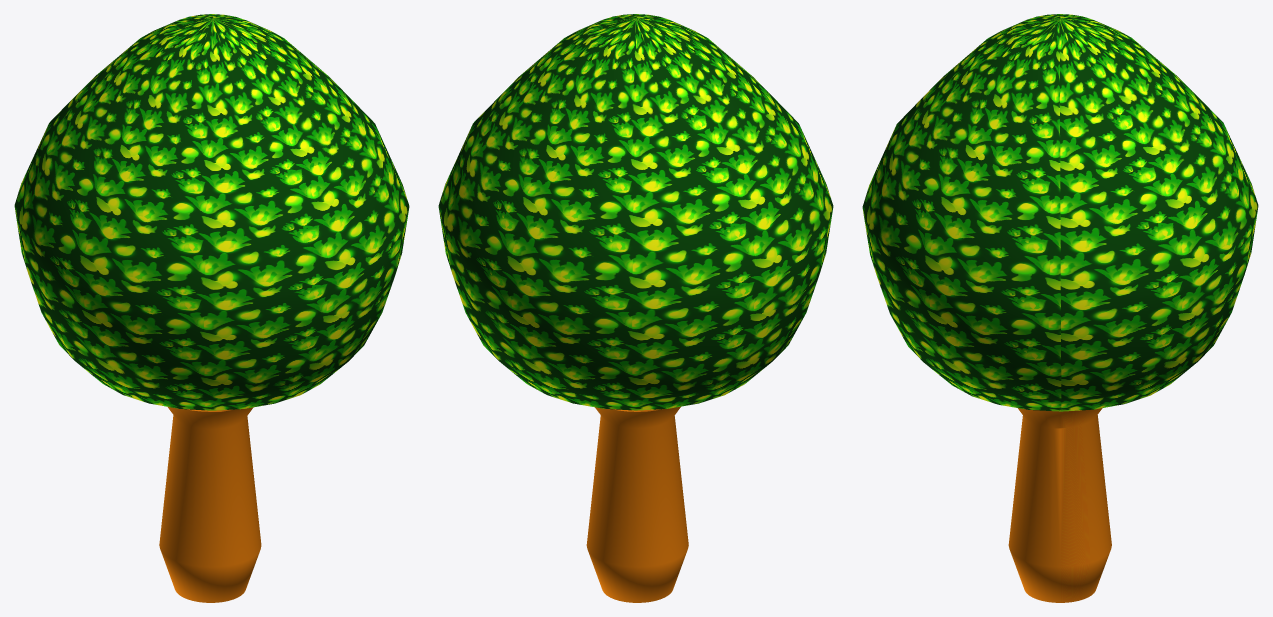
The model's file is TreePrefab5.fbx.
The picture shows the model from 3 angles, left to right: view 1: azimuth 30°, elevation 25°; view 2: azimuth 150°, elevation 25°; view 3: azimuth 270°, elevation 25°; orthographic projection.
Parts seen in each view (by area): view 1: Sphere, Cylinder; view 2: Sphere, Cylinder; view 3: Sphere, Cylinder.
Boxes of the visible parts, x1=… form: Sphere: x1=14, y1=14, x2=409, y2=410; Cylinder: x1=159, y1=407, x2=261, y2=602; Sphere: x1=438, y1=14, x2=833, y2=410; Cylinder: x1=586, y1=406, x2=688, y2=602; Sphere: x1=862, y1=14, x2=1258, y2=411; Cylinder: x1=1008, y1=408, x2=1111, y2=602.
Size of the model in its own units: 351 by 556 by 351.
Materials: 2 (2 with a texture image).
